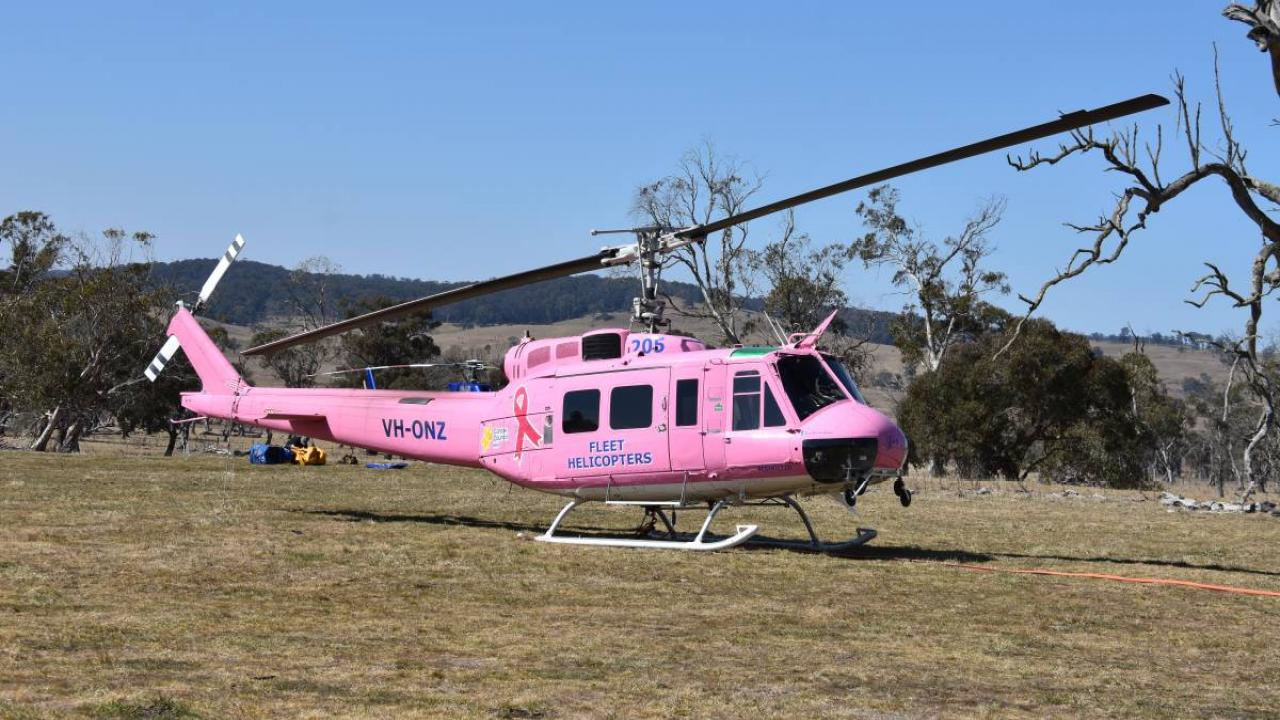Helicopter: (137, 74, 1198, 579)
